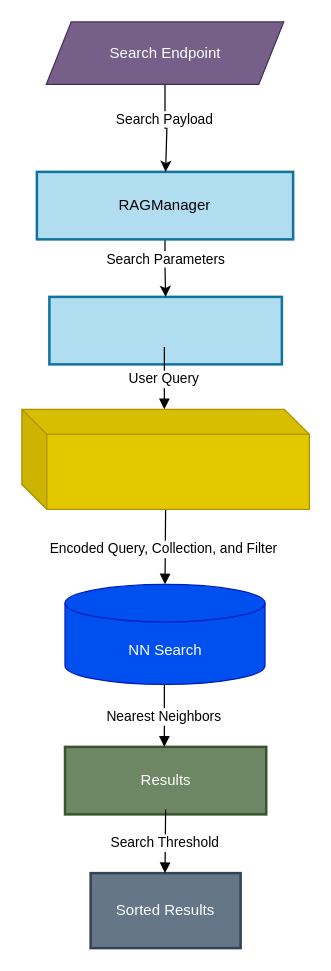
This 331x971 diagram has some shape labels left out. Here are the shapes that lost their labels. From the top down, the centre of each, then its label:
At point 165,330: "Retrieval Pipeline".
At point 165,458: "Query Encoder/Vectorizer (SentenceTransformer same model used for indexing)".
